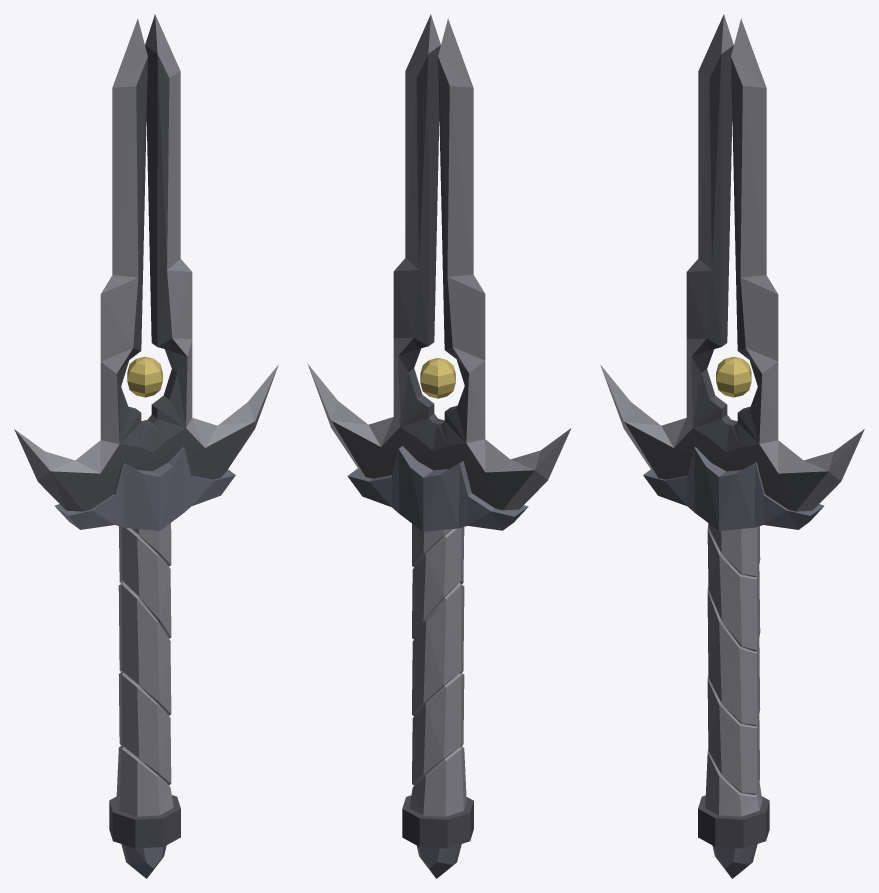
File: dagger_dagger_20.glb
The picture shows the model from 3 angles, left to right: view 1: azimuth 30°, elevation 25°; view 2: azimuth 150°, elevation 25°; view 3: azimuth 330°, elevation 25°; orthographic projection.
Parts seen in each view (by area): view 1: dagger_20; view 2: dagger_20; view 3: dagger_20.
Boxes of the visible parts, bbox=[...] form: dagger_20: bbox=[14, 14, 278, 878]; dagger_20: bbox=[307, 14, 571, 878]; dagger_20: bbox=[600, 14, 864, 878].
Size of the model in its own units: 17.06 by 53.08 by 4.14.
Materials: 1 (1 with a texture image).
